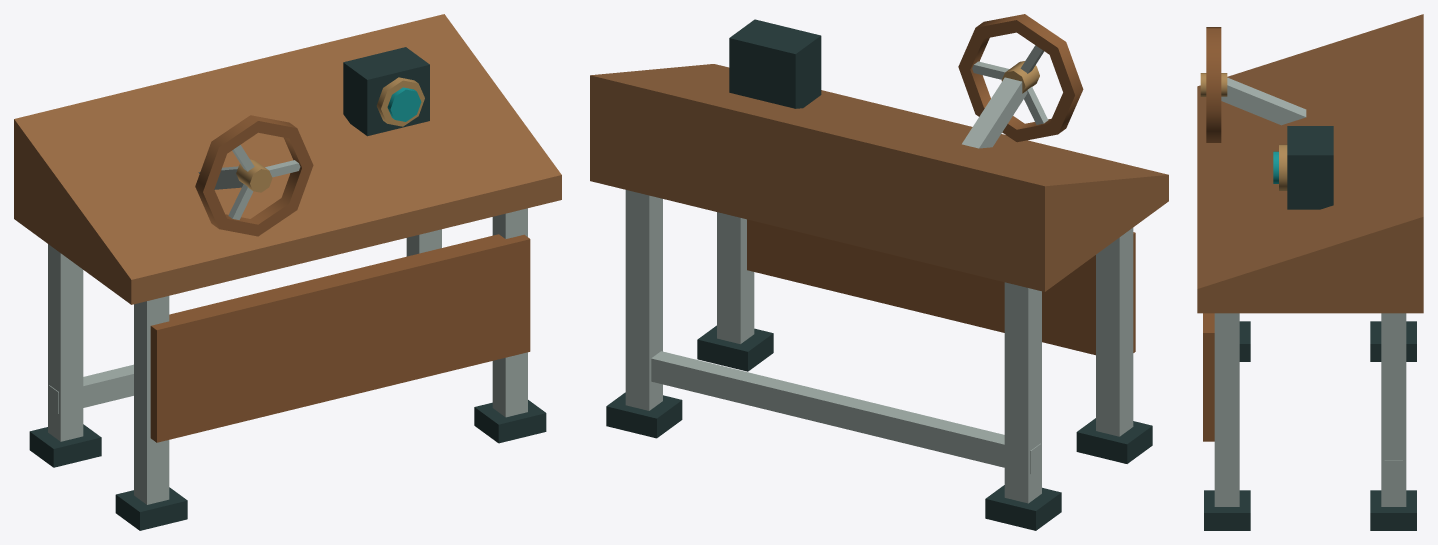
The model's file is helm-lod1.glb.
The picture shows the model from 3 angles, left to right: view 1: azimuth 30°, elevation 25°; view 2: azimuth 150°, elevation 25°; view 3: azimuth 270°, elevation 25°; orthographic projection. The views are drawn at different scales.
Visible parts, largest first — view 1: SM_HelmConsole_V3_LOD1; view 2: SM_HelmConsole_V3_LOD1; view 3: SM_HelmConsole_V3_LOD1.
Boxes of the visible parts, left/top/right/bottom form: SM_HelmConsole_V3_LOD1: left=14, top=14, right=561, bottom=530; SM_HelmConsole_V3_LOD1: left=590, top=14, right=1168, bottom=530; SM_HelmConsole_V3_LOD1: left=1197, top=14, right=1423, bottom=530.
Size of the model in its own units: 1.44 by 1.21 by 0.68.
